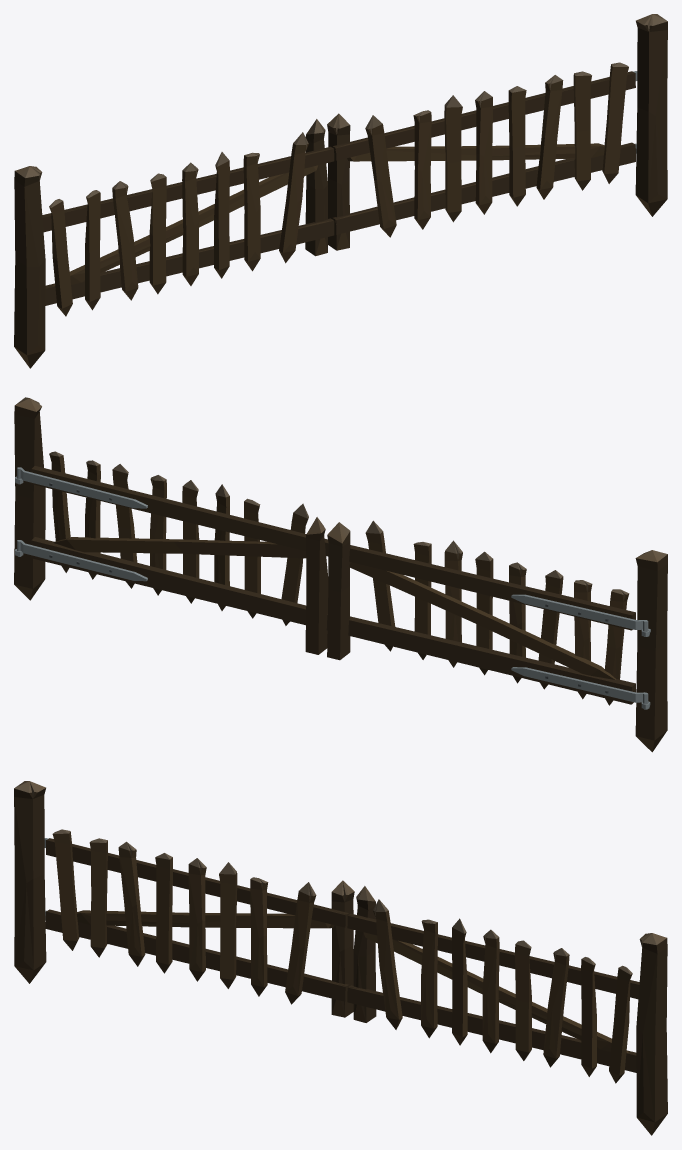
The model's file is bigFence.fbx.
3 views of the same model, one above another, from view 1: azimuth 30°, elevation 25°; view 2: azimuth 150°, elevation 25°; view 3: azimuth 330°, elevation 25° (orthographic).
Parts seen in each view (by area): view 1: PT_Medieval_Village_Gate_01_right_mobile, PT_Medieval_Village_Gate_01_left_moblie, PT_Medieval_Village_Gate_01_fixed; view 2: PT_Medieval_Village_Gate_01_left_moblie, PT_Medieval_Village_Gate_01_right_mobile, PT_Medieval_Village_Gate_01_fixed; view 3: PT_Medieval_Village_Gate_01_left_moblie, PT_Medieval_Village_Gate_01_right_mobile, PT_Medieval_Village_Gate_01_fixed.
Boxes of the visible parts, x1,y1,x2,y2 form: PT_Medieval_Village_Gate_01_right_mobile: (327, 62, 637, 250); PT_Medieval_Village_Gate_01_left_moblie: (42, 119, 334, 316); PT_Medieval_Village_Gate_01_fixed: (14, 14, 667, 368); PT_Medieval_Village_Gate_01_left_moblie: (327, 520, 648, 709); PT_Medieval_Village_Gate_01_right_mobile: (17, 451, 328, 654); PT_Medieval_Village_Gate_01_fixed: (14, 397, 667, 752); PT_Medieval_Village_Gate_01_left_moblie: (44, 829, 354, 1017); PT_Medieval_Village_Gate_01_right_mobile: (347, 886, 639, 1083); PT_Medieval_Village_Gate_01_fixed: (14, 781, 667, 1135).
Bounding box in the file's own units: 510 × 154 × 34.83.
